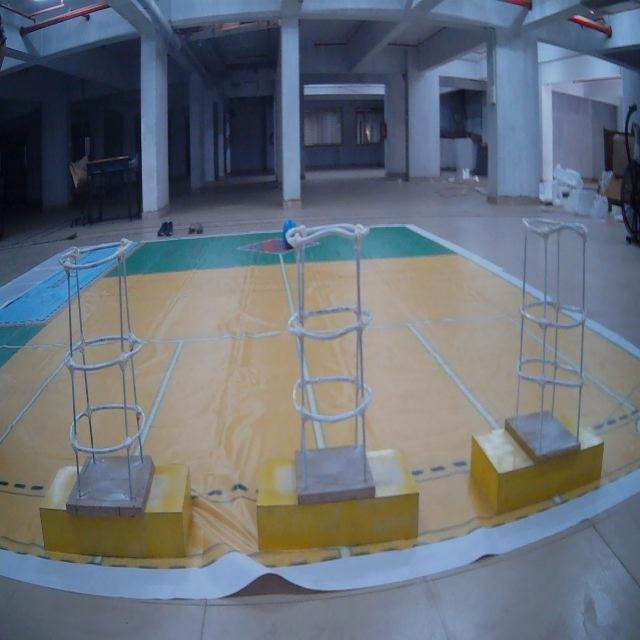silo: (287, 224, 379, 506), (64, 243, 150, 513), (517, 220, 585, 458)
